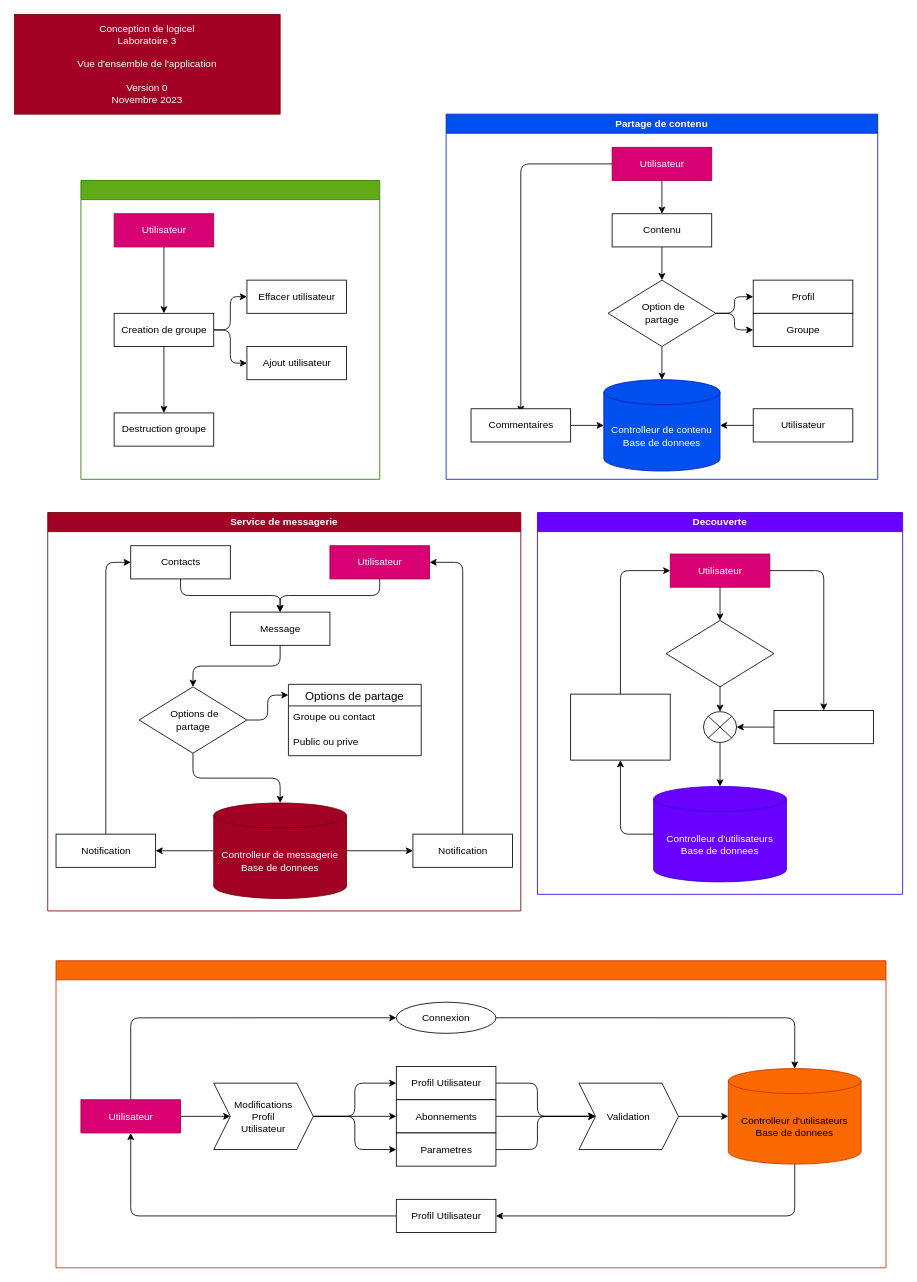
The diagram is 917 pixels wide and 1282 high, and some of its shapes have lost their labels. Here are the shapes that lost their labels. From the top down, the centre of each, then its label:
point 230,329: Gestion des groupes
point 719,653: Activation Decouverte
point 620,726: Membres Evenements Partenaires
point 823,727: Criteres de recherche
point 470,1114: Modification profil utilisateur
